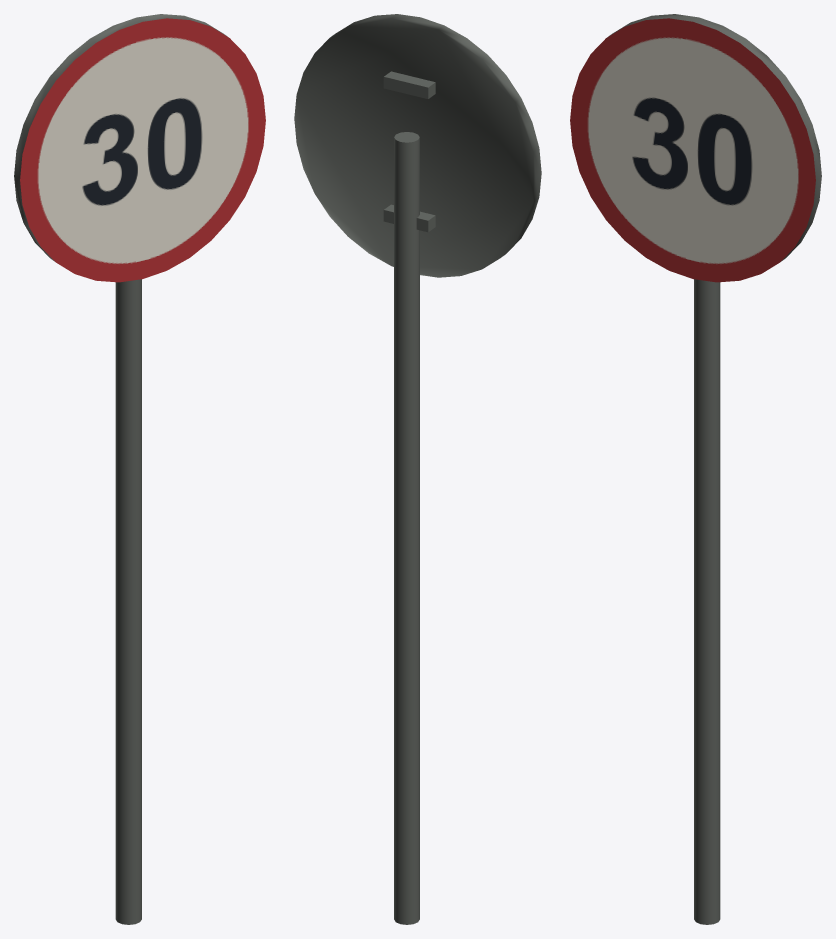
The model's file is MS_SG_07_Speed30.glb.
3 renders of one model, left to right at view 1: azimuth 30°, elevation 25°; view 2: azimuth 150°, elevation 25°; view 3: azimuth 330°, elevation 25°, orthographic.
Parts seen in each view (by area): view 1: SignFace, _MeshInstance3D_44, _MeshInstance3D_46; view 2: _MeshInstance3D_46, _MeshInstance3D_44, _MeshInstance3D_48, _MeshInstance3D_47; view 3: SignFace, _MeshInstance3D_44, _MeshInstance3D_46.
Part boxes in pixels (x1=…): SignFace: x1=20, y1=18, x2=265, y2=282; _MeshInstance3D_44: x1=115, y1=279, x2=141, y2=924; _MeshInstance3D_46: x1=14, y1=14, x2=227, y2=261; _MeshInstance3D_46: x1=294, y1=14, x2=541, y2=277; _MeshInstance3D_44: x1=394, y1=132, x2=419, y2=924; _MeshInstance3D_48: x1=383, y1=71, x2=435, y2=98; _MeshInstance3D_47: x1=383, y1=204, x2=435, y2=232; SignFace: x1=570, y1=18, x2=815, y2=282; _MeshInstance3D_44: x1=694, y1=279, x2=720, y2=924; _MeshInstance3D_46: x1=608, y1=14, x2=821, y2=261.
Size of the model in its own units: 0.7594 by 2.68 by 0.111.
Materials: 2 (1 with a texture image).
